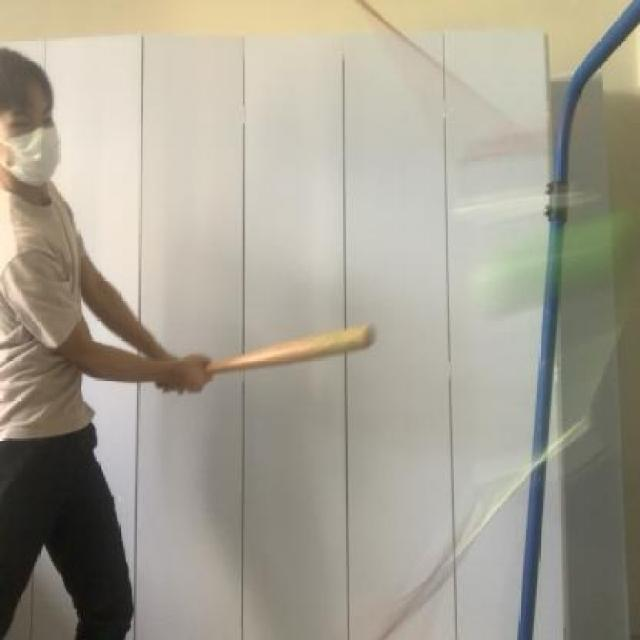baseball: (466, 206, 640, 334)
